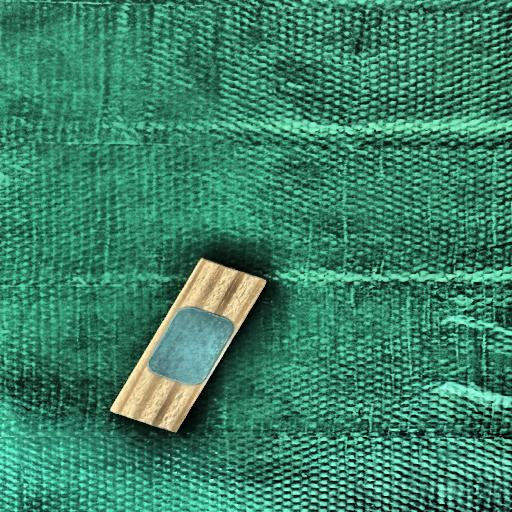objects: (111, 247, 265, 444)
